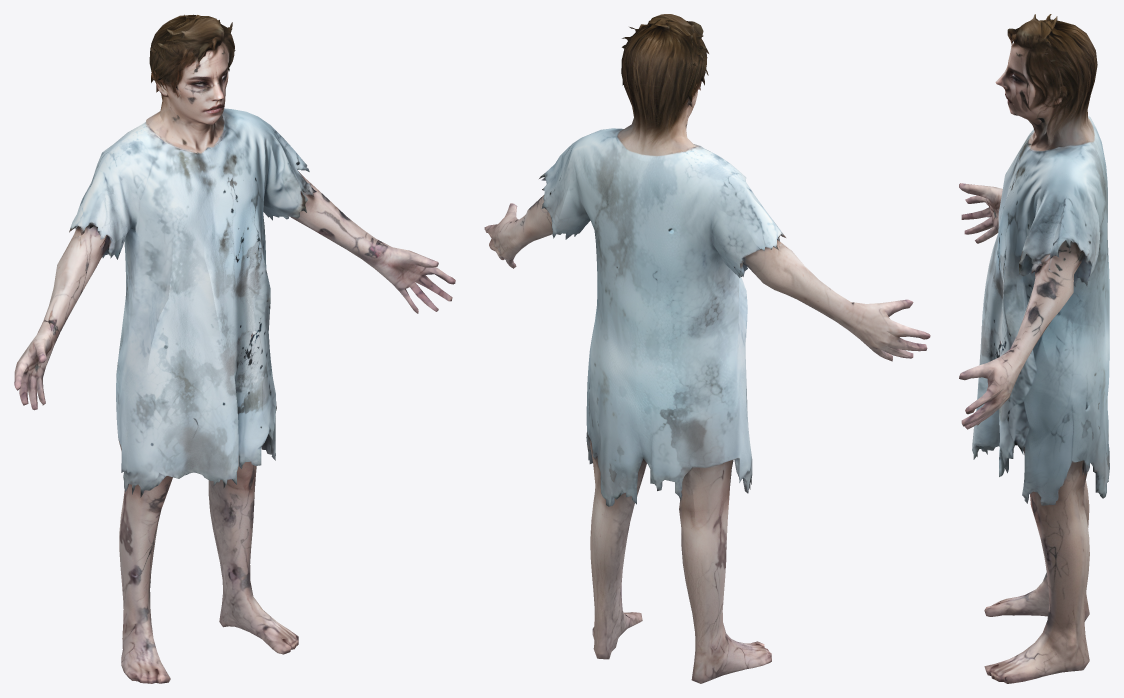
Rendered from base_basic_shaded.glb.
3 views of the same model, side by side, from view 1: azimuth 30°, elevation 25°; view 2: azimuth 150°, elevation 25°; view 3: azimuth 270°, elevation 25° (orthographic).
Parts seen in each view (by area): view 1: model; view 2: model; view 3: model.
Boxes of the visible parts, <box> form: model: <box>14,14,455,683</box>; model: <box>484,14,930,683</box>; model: <box>959,14,1109,683</box>.
Bounding box in the file's own units: 1.31 × 1.8 × 0.3922.
1 material, 1 textured.
